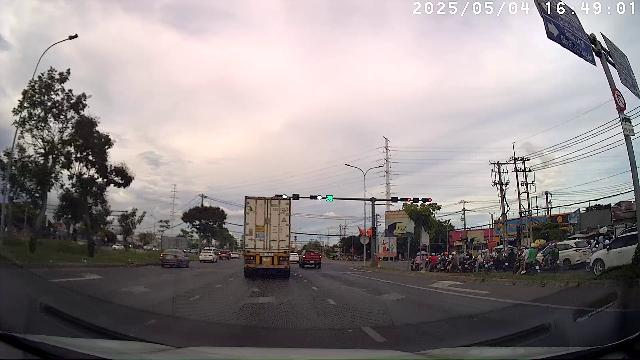123b-cam-re-phai: (613, 88, 626, 111)
